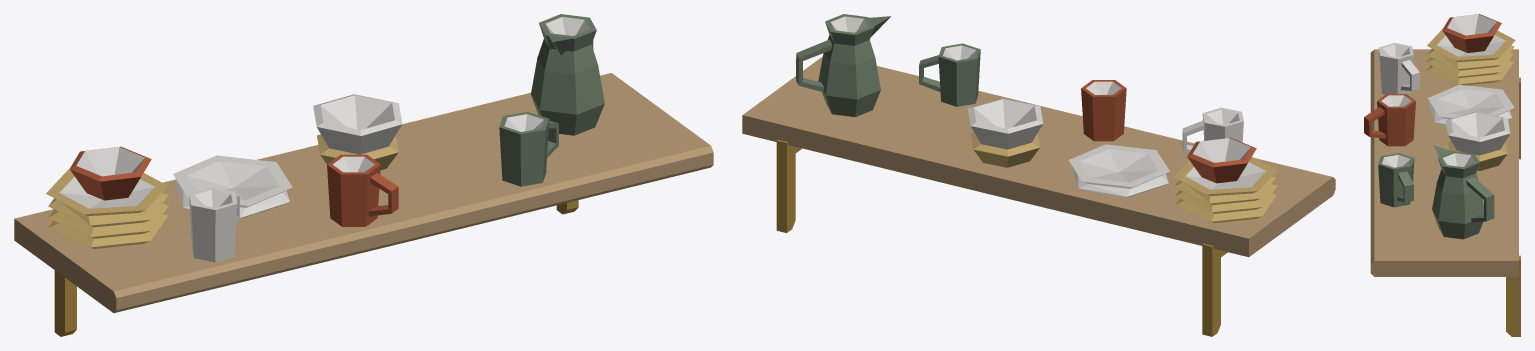
Rendered from open-kitchen-shelf-f751de.glb.
3 renders of one model, left to right at view 1: azimuth 30°, elevation 25°; view 2: azimuth 150°, elevation 25°; view 3: azimuth 270°, elevation 25°, orthographic. The views are drawn at different scales.
Parts seen in each view (by area): view 1: open-kitchen-shelf; view 2: open-kitchen-shelf; view 3: open-kitchen-shelf.
Boxes of the visible parts, box(x1,y1,x2,y2) form: open-kitchen-shelf: box(14, 14, 713, 336); open-kitchen-shelf: box(742, 14, 1335, 336); open-kitchen-shelf: box(1364, 14, 1520, 336).
Bounding box in the file's own units: 1 × 0.3638 × 0.3129.
